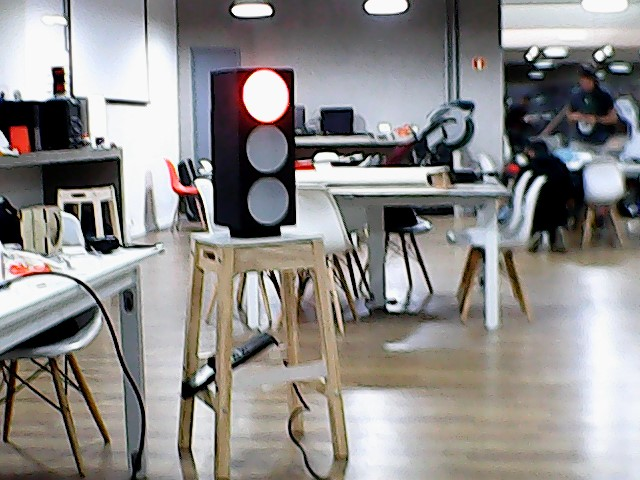vermelho: (206, 65, 301, 226)
